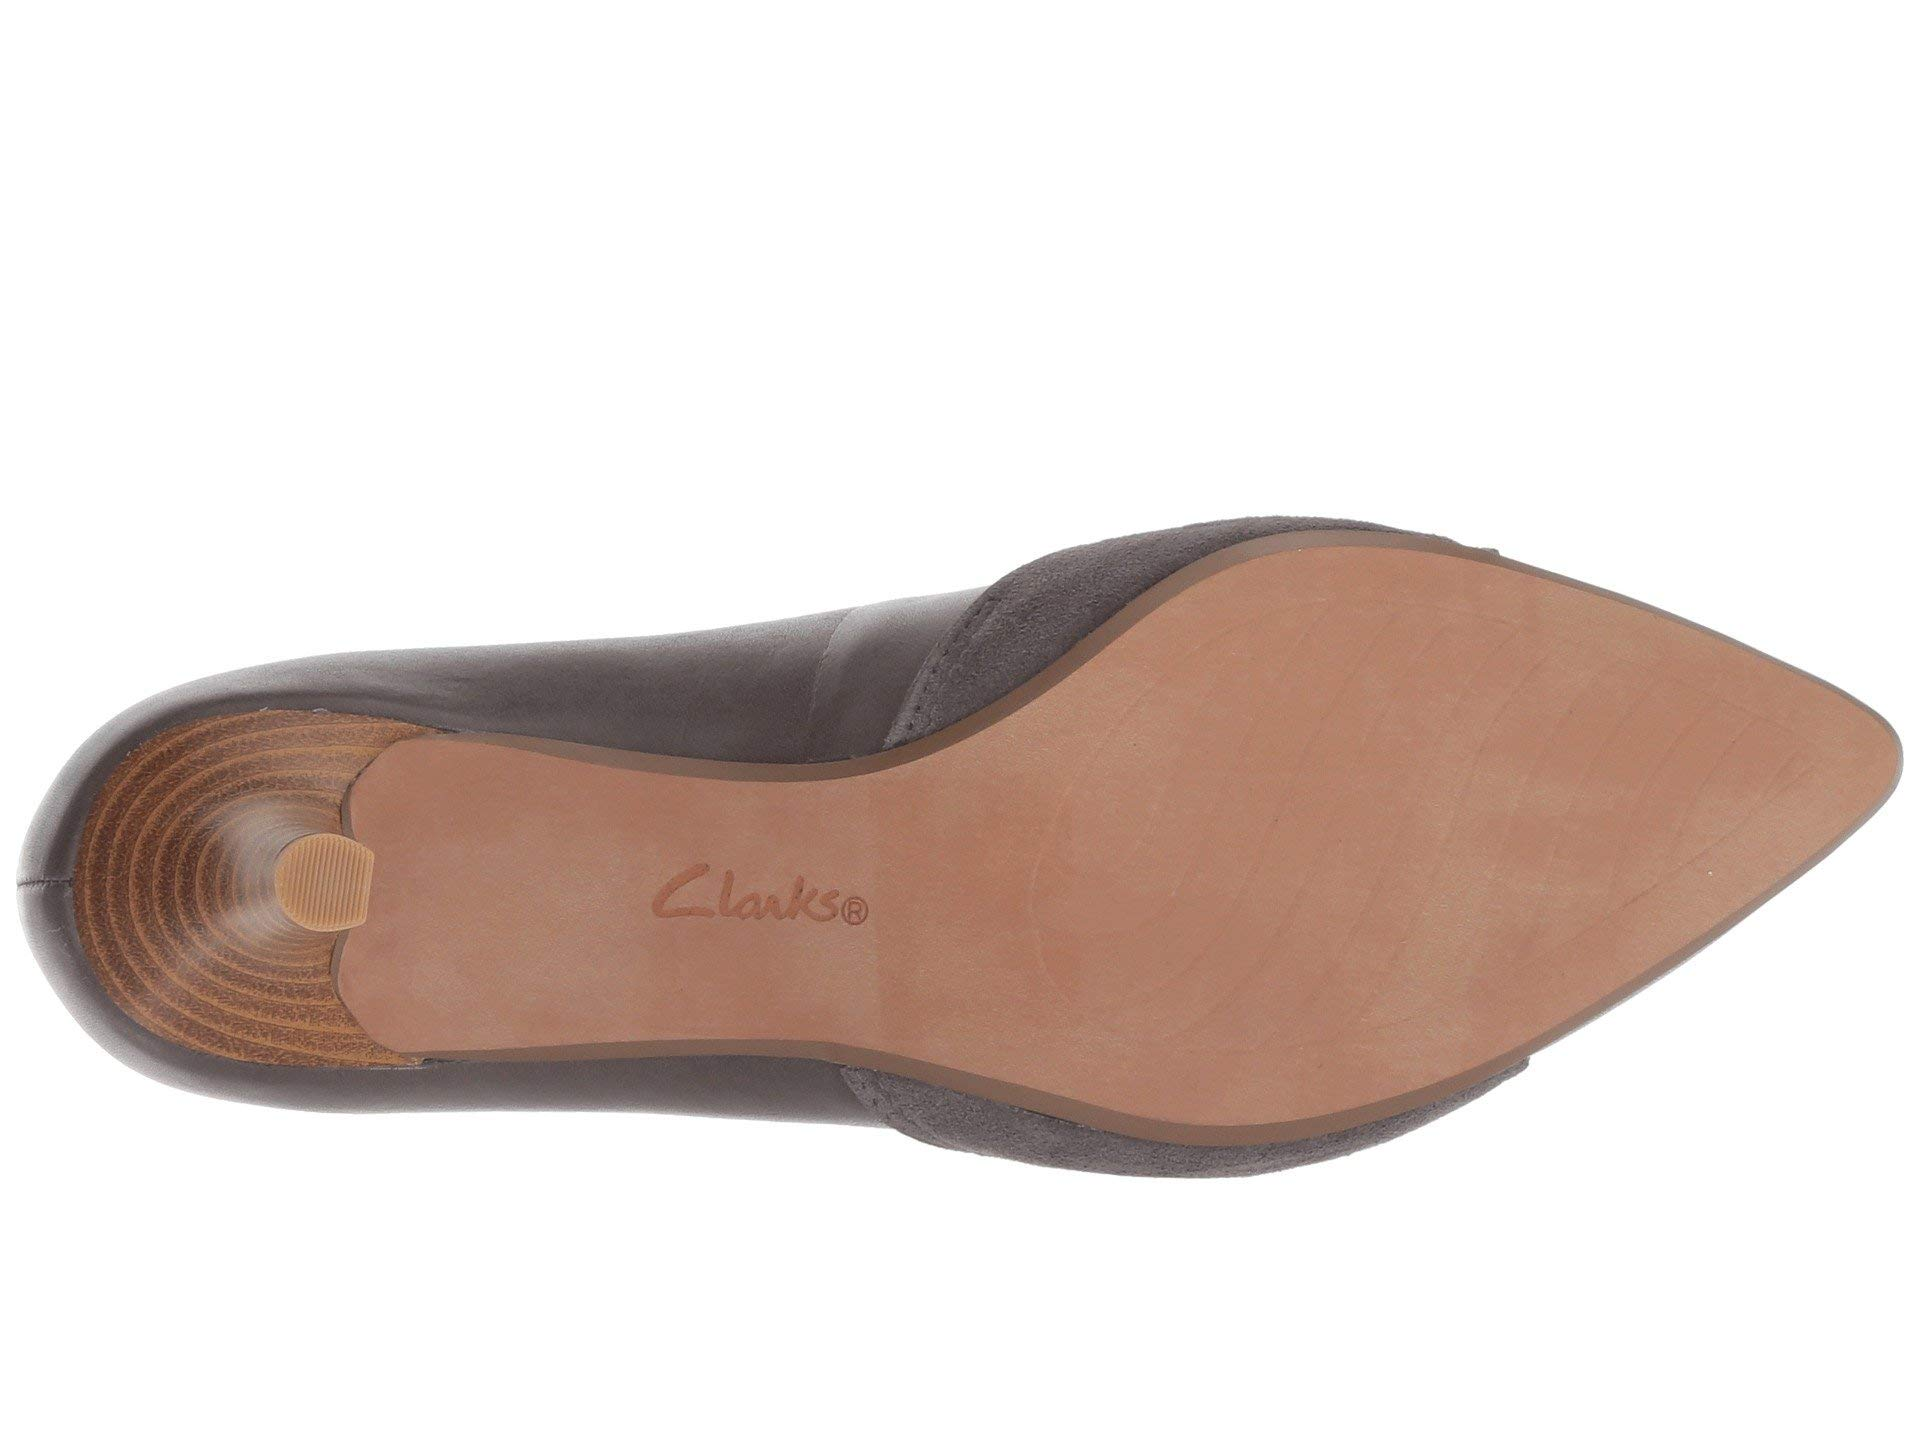line: (1092, 619, 1640, 1029), (295, 852, 354, 909)
